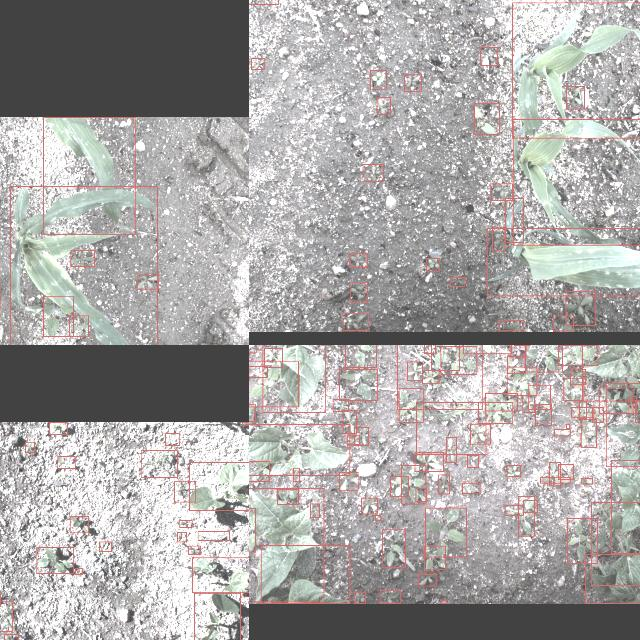crop: (10, 186, 157, 345), (512, 2, 640, 138), (512, 119, 640, 245), (44, 116, 134, 234), (487, 228, 640, 296), (249, 488, 324, 602), (260, 545, 350, 603), (249, 423, 350, 474), (262, 345, 325, 412), (591, 502, 640, 586), (581, 345, 640, 400), (605, 382, 640, 466), (188, 462, 249, 510), (611, 459, 640, 553), (585, 553, 640, 602), (194, 592, 240, 640), (242, 421, 249, 425)
weed: (397, 345, 483, 409), (416, 402, 486, 454), (249, 360, 298, 406), (192, 557, 249, 592), (426, 508, 466, 556), (567, 518, 597, 562), (43, 296, 73, 336), (339, 368, 377, 399), (140, 449, 178, 477), (441, 346, 477, 374), (36, 547, 74, 573), (525, 345, 563, 371), (402, 464, 426, 504), (566, 291, 594, 325), (382, 529, 406, 567), (474, 102, 500, 134), (600, 387, 632, 413), (399, 388, 423, 422), (558, 345, 598, 365), (506, 198, 524, 242), (508, 367, 536, 395), (478, 402, 512, 422), (431, 345, 459, 369), (345, 345, 376, 366), (519, 496, 535, 536), (414, 452, 444, 472), (485, 392, 517, 410), (424, 546, 446, 570), (528, 384, 550, 408), (342, 312, 368, 330), (174, 481, 196, 502), (564, 378, 584, 400), (582, 418, 596, 448), (567, 85, 585, 108), (69, 316, 89, 336), (249, 461, 269, 481), (470, 423, 490, 443), (462, 345, 511, 353), (71, 250, 95, 266), (491, 183, 513, 200), (339, 472, 358, 491), (350, 282, 368, 302), (0, 601, 12, 631), (391, 476, 409, 496), (264, 348, 282, 367), (363, 163, 383, 180), (404, 73, 422, 91), (480, 46, 498, 64), (198, 530, 230, 540), (407, 360, 423, 380), (278, 488, 298, 504), (535, 404, 551, 424), (492, 228, 506, 250), (343, 410, 357, 432), (370, 70, 386, 88), (70, 516, 88, 532), (507, 356, 525, 372), (138, 274, 158, 288), (553, 316, 573, 330), (380, 590, 400, 604), (249, 508, 255, 552), (498, 320, 524, 330), (446, 436, 456, 462), (361, 497, 377, 513), (570, 368, 586, 384), (377, 96, 391, 114), (349, 253, 367, 267), (355, 427, 369, 445), (572, 407, 594, 418), (550, 461, 560, 485), (558, 464, 574, 478), (423, 369, 439, 383), (438, 474, 449, 494), (50, 421, 68, 433), (419, 574, 437, 586), (523, 394, 535, 412), (462, 482, 480, 493), (249, 365, 267, 376), (58, 456, 74, 468), (522, 500, 538, 512), (592, 406, 604, 422), (426, 257, 439, 271), (505, 505, 523, 515), (540, 476, 570, 482), (166, 432, 180, 444), (507, 464, 521, 476), (334, 399, 348, 411), (450, 276, 466, 286), (510, 345, 525, 355), (354, 592, 366, 604), (467, 455, 479, 467), (579, 400, 587, 418), (310, 503, 320, 517), (416, 488, 426, 502), (629, 396, 637, 412), (252, 58, 264, 68), (99, 541, 111, 551), (188, 544, 200, 554), (347, 434, 359, 444), (635, 400, 640, 422), (177, 531, 187, 541), (4, 633, 18, 640), (554, 429, 570, 435), (249, 0, 278, 3), (26, 441, 34, 451), (424, 345, 435, 352), (180, 520, 192, 526), (293, 468, 299, 480), (582, 478, 592, 484), (76, 568, 82, 574), (440, 600, 446, 604), (375, 516, 381, 520), (566, 424, 570, 428)
